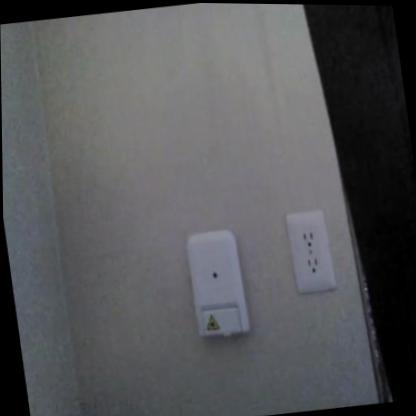OUTLET: (284, 210, 336, 294)
